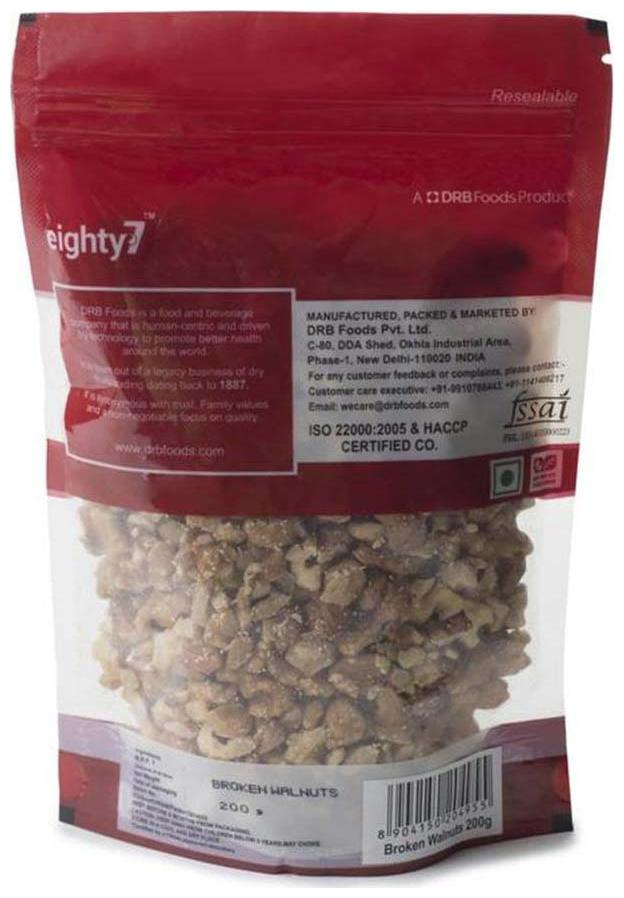fssai: (502, 390, 571, 426)
